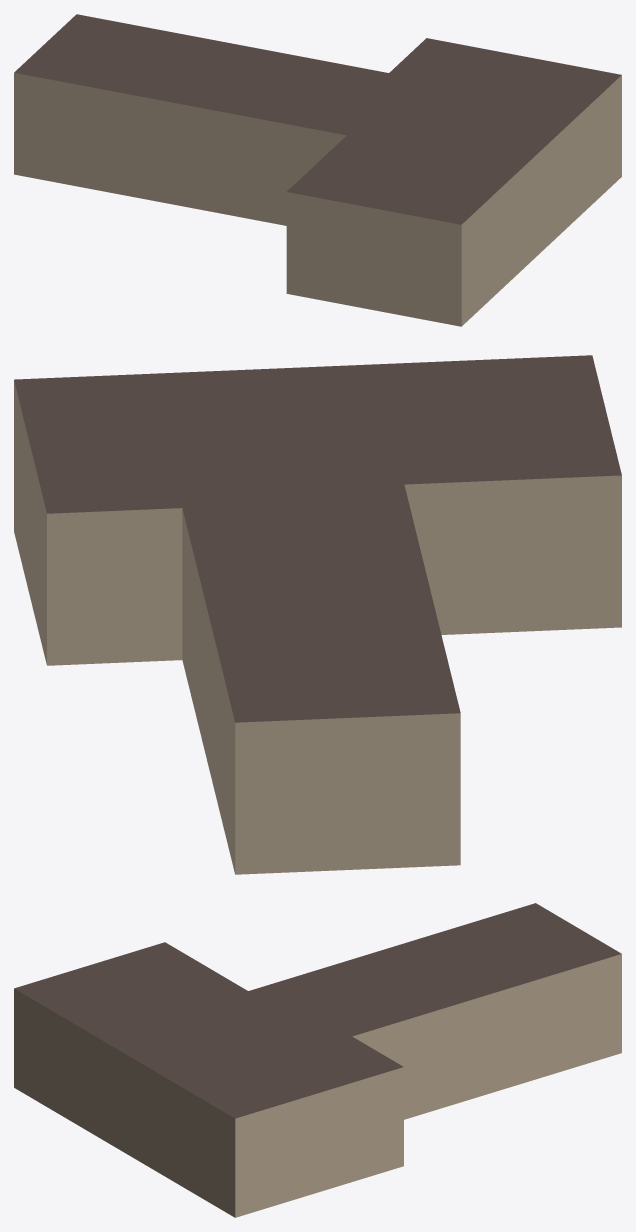
The picture shows the model from 3 angles, top to bottom: view 1: azimuth 30°, elevation 25°; view 2: azimuth 150°, elevation 25°; view 3: azimuth 270°, elevation 25°; orthographic projection. The views are drawn at different scales.
Visible parts, largest first — view 1: HP-w369238016; view 2: HP-w369238016; view 3: HP-w369238016.
Part boxes in pixels (x1,y1,x2,y2): HP-w369238016: (14,14,621,326); HP-w369238016: (14,355,621,874); HP-w369238016: (14,903,621,1217).
Size of the model in its own units: 41.93 by 9 by 49.97.
